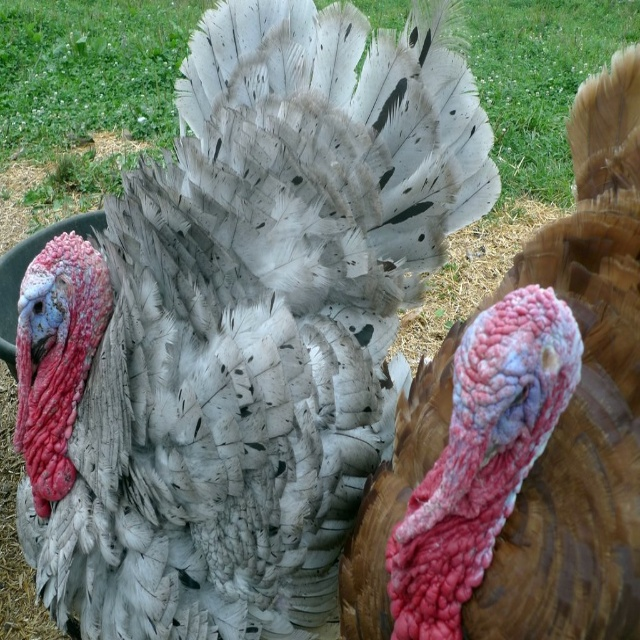Turkey: (13, 0, 501, 640), (336, 43, 640, 640)
